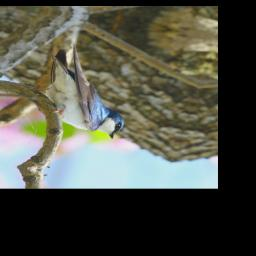Swallow: (17, 39, 151, 140)
